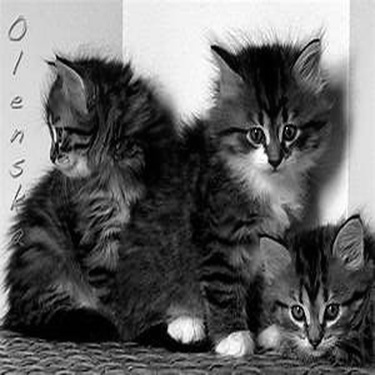cat: (2, 54, 206, 343), (173, 34, 337, 359), (257, 212, 373, 368)
